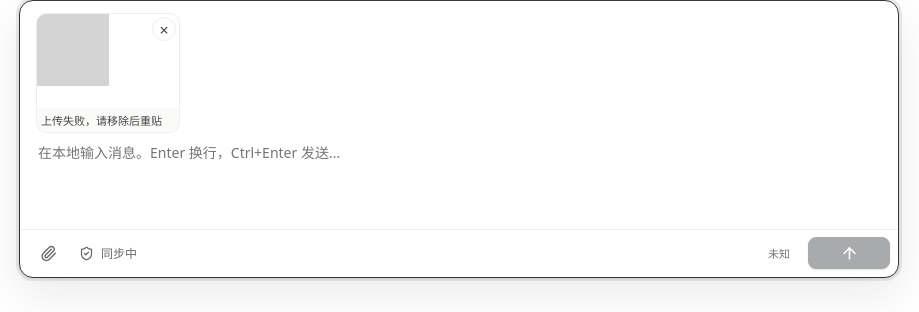
it: composer terminal-style keyboard controls › keeps a failed image removable and blocks sending until it is removed
This screenshot has width=919, height=312.
Check: the text "上传失败，请移除后重贴" is shown, box [37,108,179,132]
Check: the button with class "send-button" is disabled, box [808,237,890,269]
Click the button named "移除图片": (164, 29) [152,17,176,41]
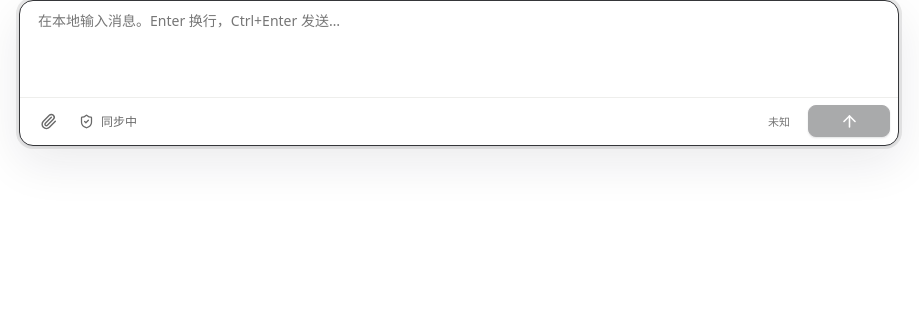
Check: the picture is gone
